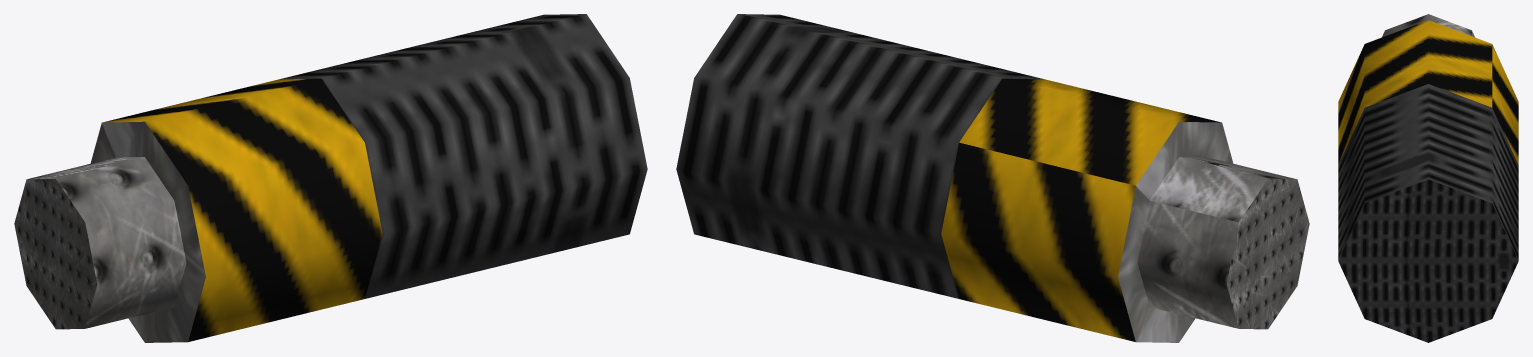
Rendered from collectibles.fbx.
3 views of the same model, side by side, from view 1: azimuth 30°, elevation 25°; view 2: azimuth 150°, elevation 25°; view 3: azimuth 270°, elevation 25° (orthographic). The views are drawn at different scales.
Visible parts, largest first — view 1: Collectibles; view 2: Collectibles; view 3: Collectibles.
Part boxes in pixels (box(x1,y1,x2,y2)): Collectibles: box(14, 14, 647, 342); Collectibles: box(676, 14, 1309, 342); Collectibles: box(1338, 14, 1518, 342).
Size of the model in its own units: 2.01 by 0.8005 by 0.8005.
